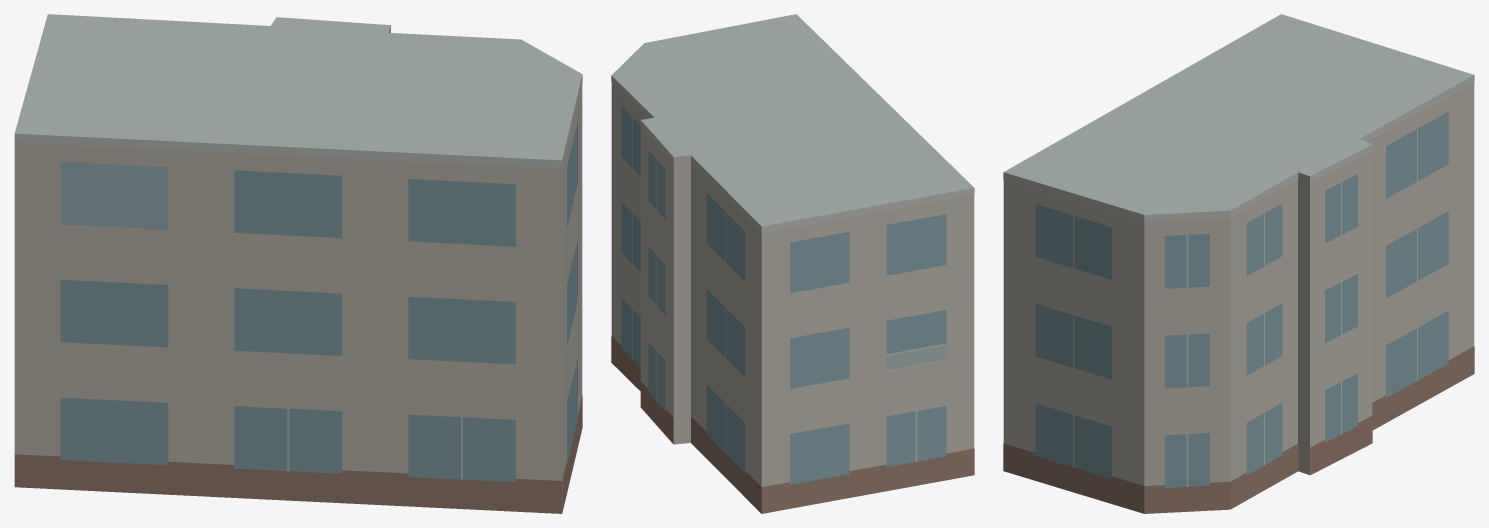
Rendered from survey-upis-32830865.glb.
The picture shows the model from 3 angles, left to right: view 1: azimuth 30°, elevation 25°; view 2: azimuth 150°, elevation 25°; view 3: azimuth 270°, elevation 25°; orthographic projection. The views are drawn at different scales.
Visible parts, largest first — view 1: survey-upis-32830865.tmp; view 2: survey-upis-32830865.tmp; view 3: survey-upis-32830865.tmp.
Boxes of the visible parts, x1,y1,x2,y2 form: survey-upis-32830865.tmp: [14, 14, 582, 513]; survey-upis-32830865.tmp: [611, 14, 974, 513]; survey-upis-32830865.tmp: [1003, 14, 1474, 513].
Size of the model in its own units: 15 by 10.4 by 14.86.
